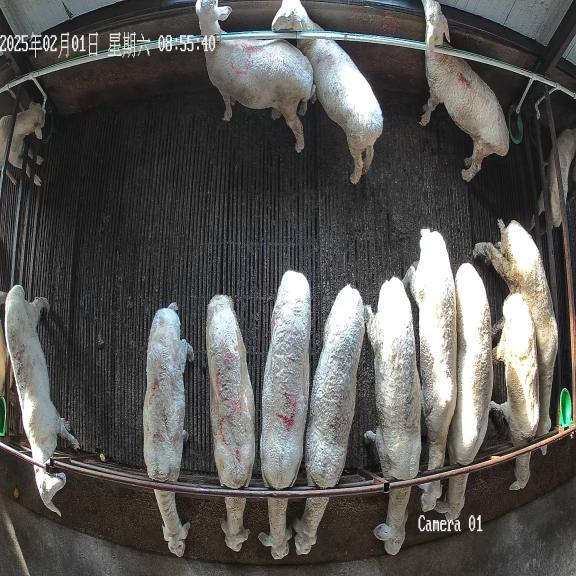eating: (490, 294, 539, 490)
stand: (271, 0, 383, 184), (473, 220, 558, 435), (196, 0, 315, 152), (4, 285, 80, 515), (420, 0, 509, 181)
